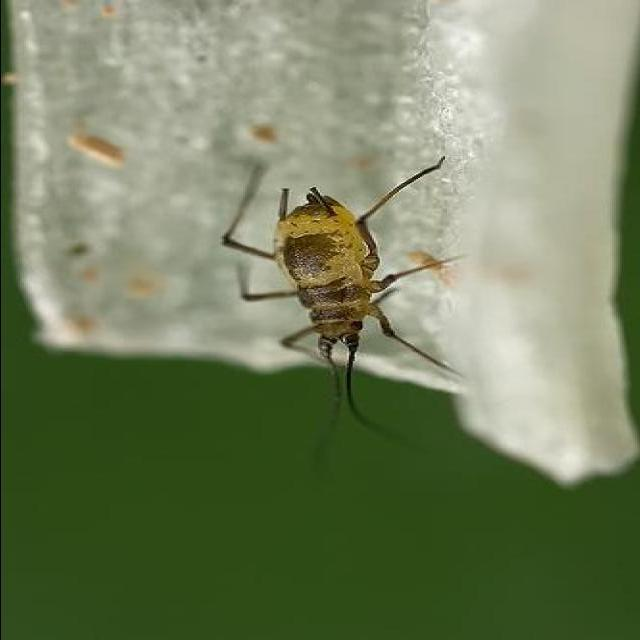aphid: (211, 179, 471, 439)
